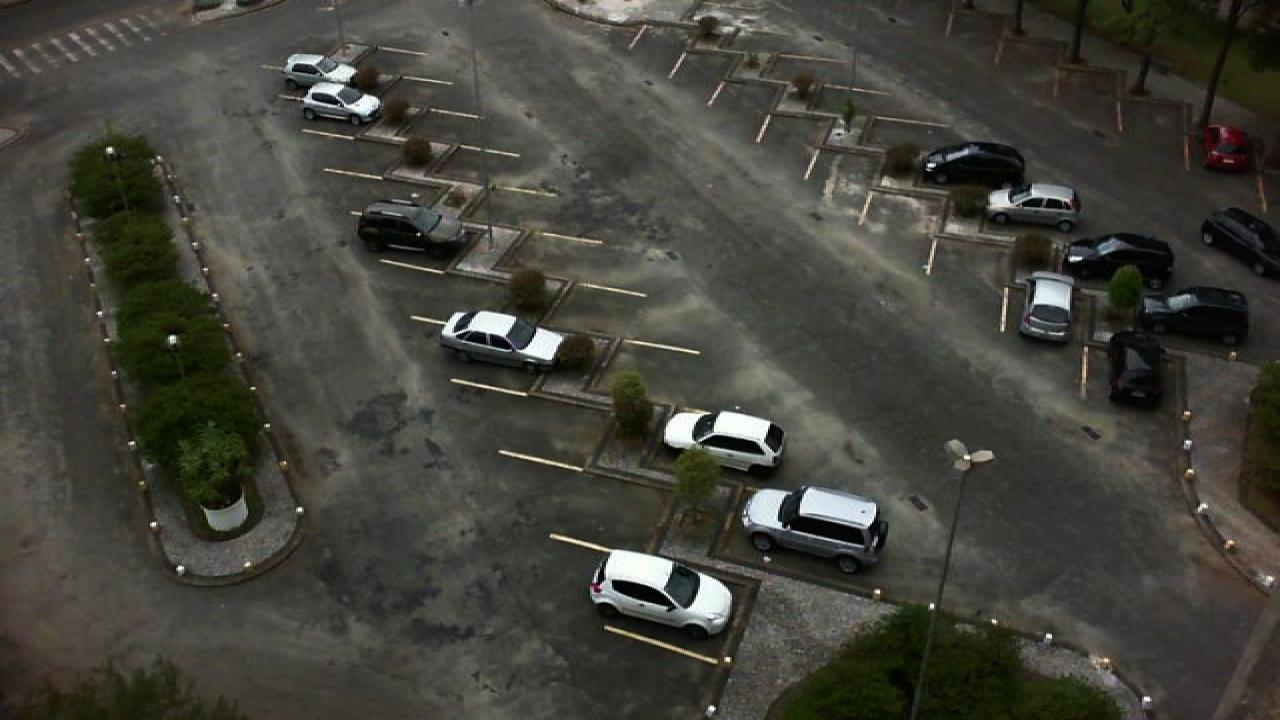Car: (586, 550, 734, 641), (740, 486, 890, 574), (660, 409, 786, 474), (438, 310, 564, 374), (354, 198, 468, 260), (1140, 286, 1252, 348), (1198, 206, 1280, 279), (1064, 231, 1174, 281), (920, 140, 1026, 188), (984, 182, 1082, 233), (1106, 330, 1166, 406), (1020, 269, 1076, 344), (300, 85, 382, 125), (282, 53, 358, 91), (1200, 123, 1252, 173)
